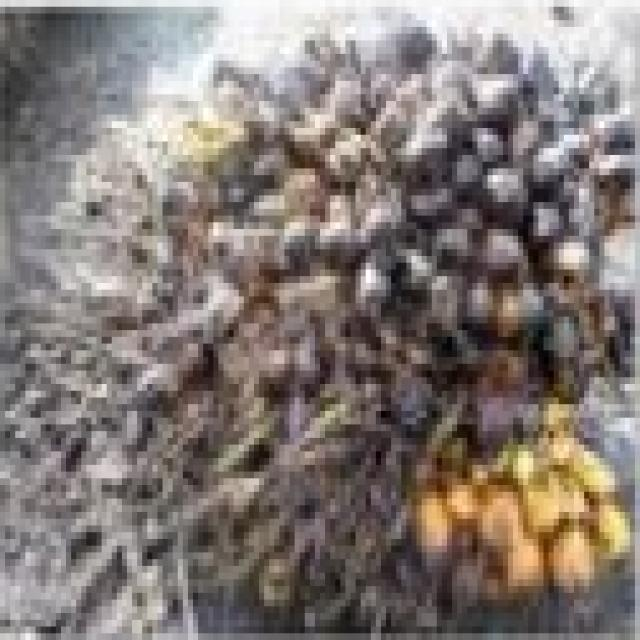FFB: (32, 33, 640, 636)
